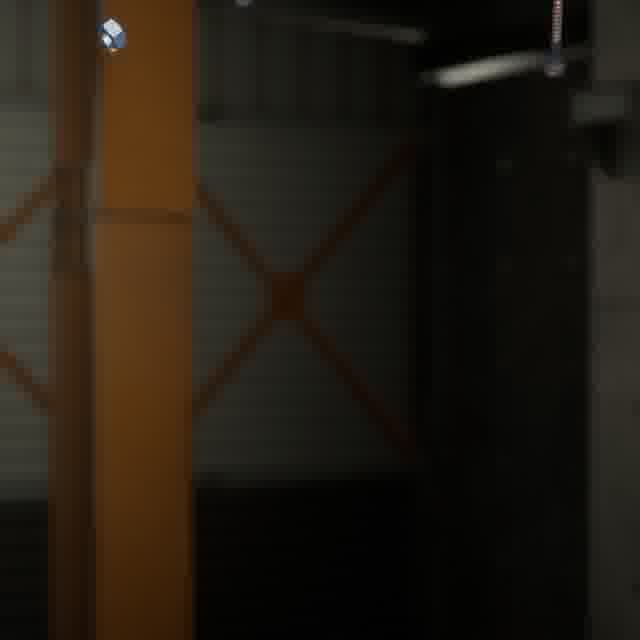bolt: (540, 0, 569, 81)
nut: (92, 14, 131, 55)
